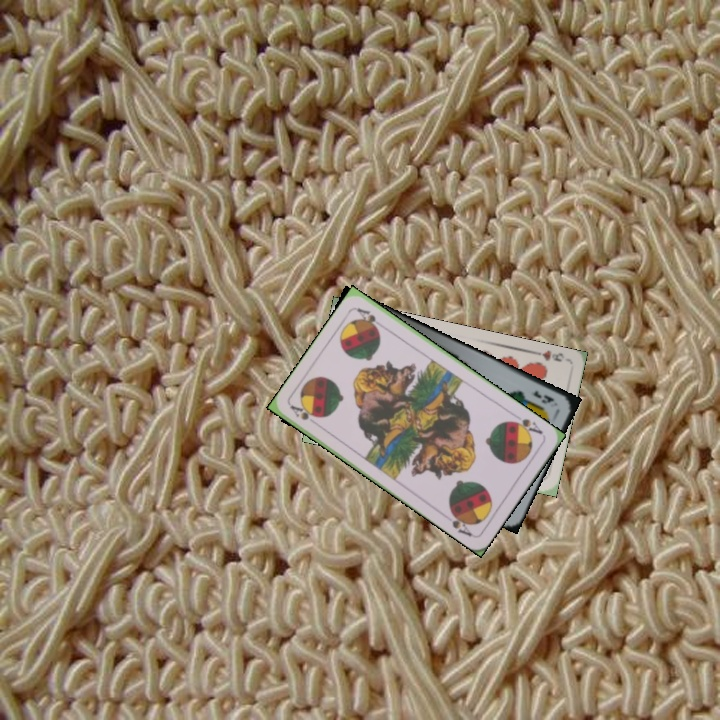EK: (529, 386, 557, 406)
H9: (529, 346, 567, 364)
SA: (507, 410, 545, 439), (286, 401, 320, 423)
